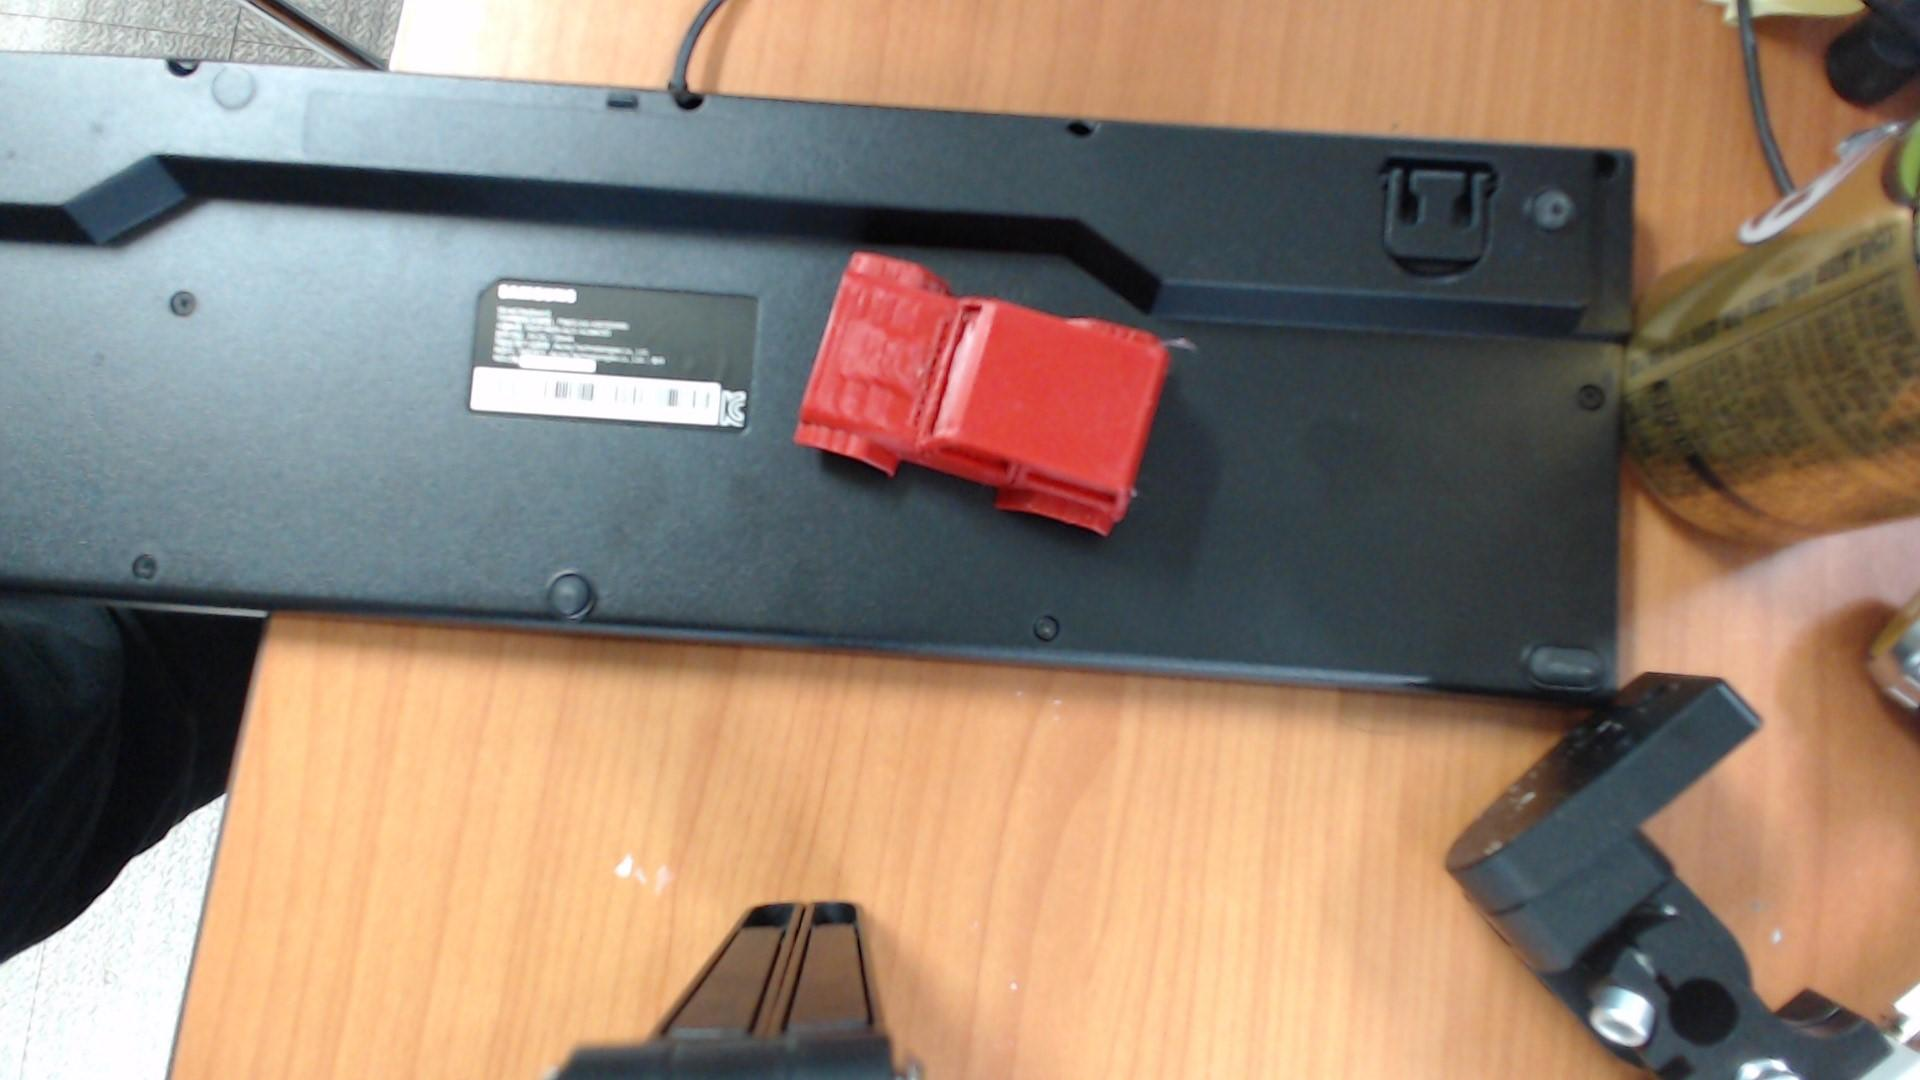Upper_ok: (794, 252, 1168, 536)
